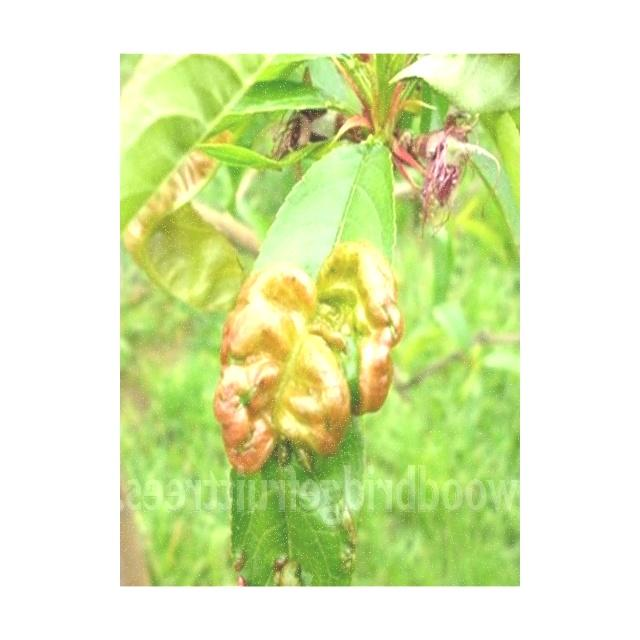leaf_curl: (207, 190, 420, 489)
